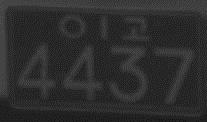0: (58, 13, 85, 40)
1: (92, 14, 119, 40)
3: (108, 45, 148, 103)
4: (16, 43, 56, 101), (63, 44, 102, 100)
7: (153, 46, 195, 104)
고: (121, 15, 149, 41)
